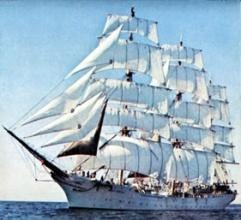fanchuan: (9, 10, 237, 212)
